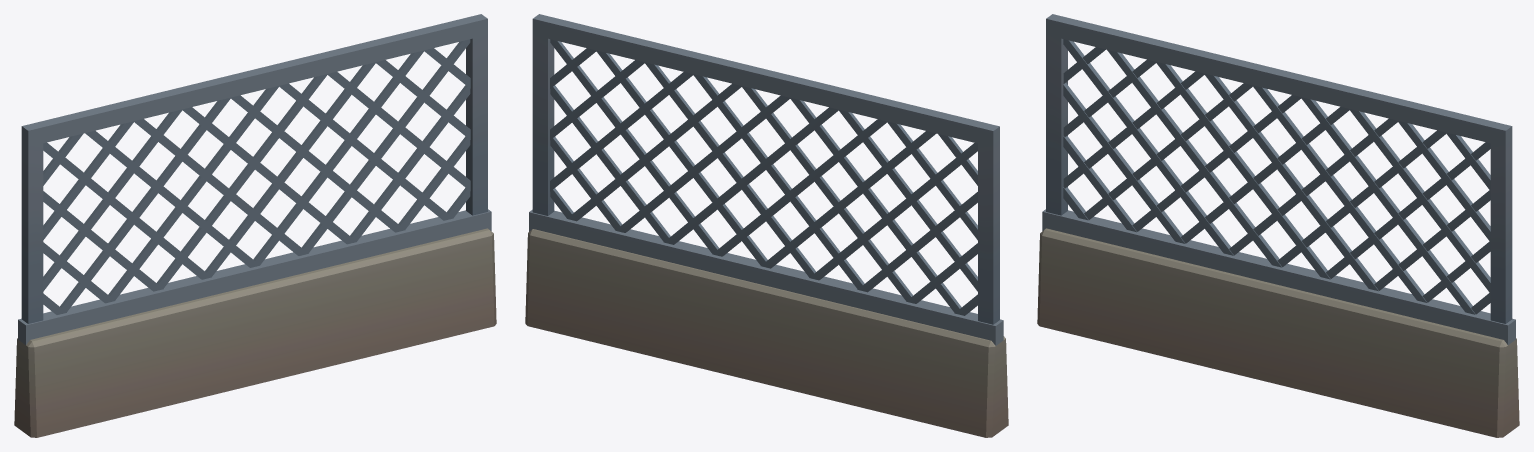
File: Fence_1_A_6.fbx
3 renders of one model, left to right at view 1: azimuth 30°, elevation 25°; view 2: azimuth 150°, elevation 25°; view 3: azimuth 330°, elevation 25°, orthographic.
Parts seen in each view (by area): view 1: Fence_1_A_6; view 2: Fence_1_A_6; view 3: Fence_1_A_6.
Part boxes in pixels (x1,y1,x2,y2): Fence_1_A_6: (14, 14, 496, 437); Fence_1_A_6: (525, 14, 1008, 437); Fence_1_A_6: (1037, 14, 1519, 437).
Bounding box in the file's own units: 400 × 248 × 30.52.
